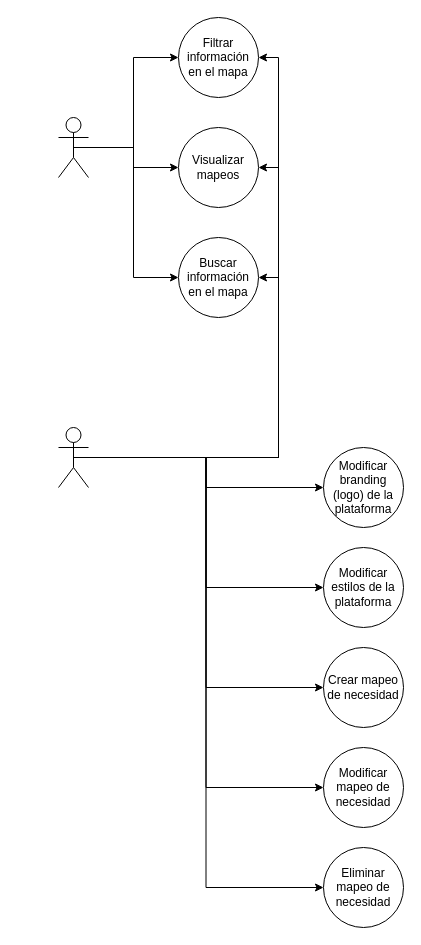
Some shapes in this 421 by 945 pixel diagram are drawn without their labels. The centre of each missing label's shape, as x and y in pixels:
Administrador (ONG): the point at 73,457
Público: the point at 73,147
